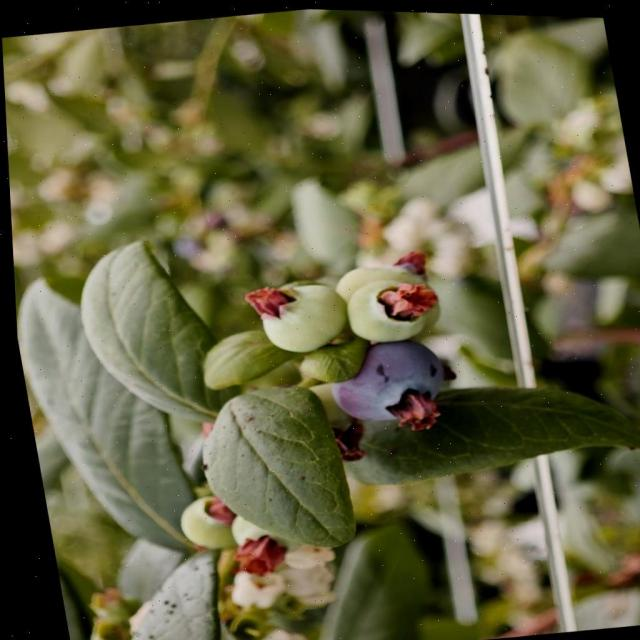RipeBlueBerry: (318, 329, 451, 428)
UnripeBlueBerry: (242, 272, 349, 360), (337, 269, 434, 347)
